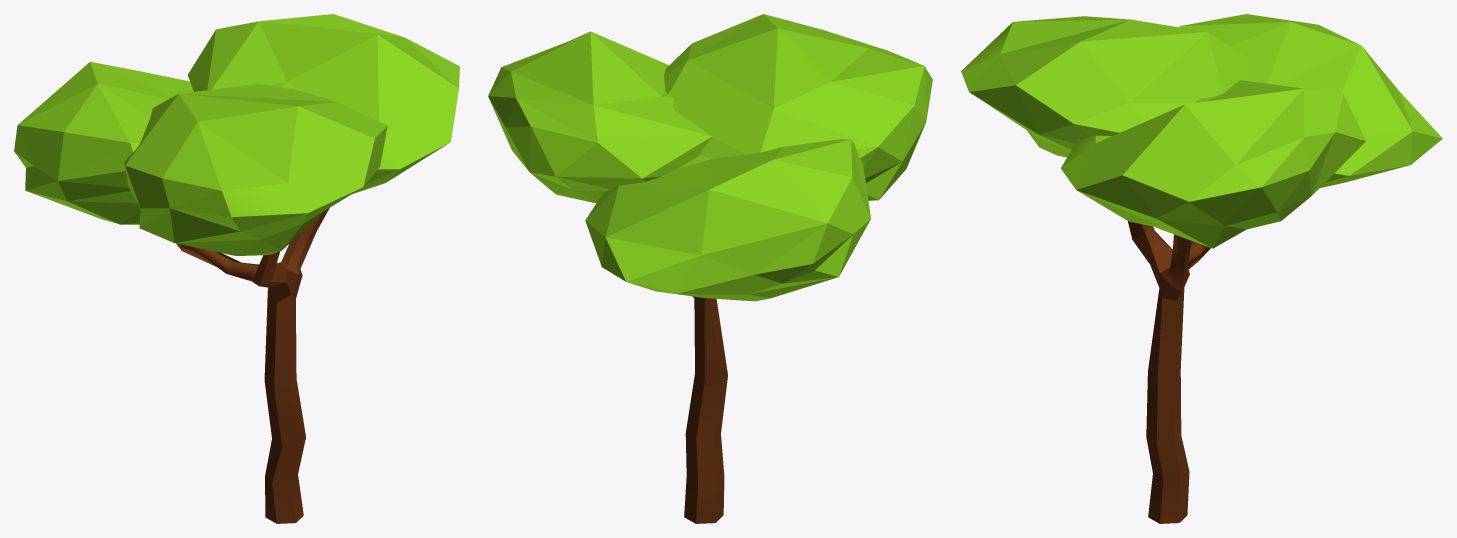
The model's file is Tree1.fbx.
The picture shows the model from 3 angles, left to right: view 1: azimuth 30°, elevation 25°; view 2: azimuth 150°, elevation 25°; view 3: azimuth 270°, elevation 25°; orthographic projection. The views are drawn at different scales.
Visible parts, largest first — view 1: Tree1; view 2: Tree1; view 3: Tree1.
Boxes of the visible parts, box(x1,y1,x2,y2) form: Tree1: box(14, 14, 459, 523); Tree1: box(488, 14, 932, 523); Tree1: box(961, 14, 1442, 523).
Size of the model in its own units: 659 by 740 by 699.
